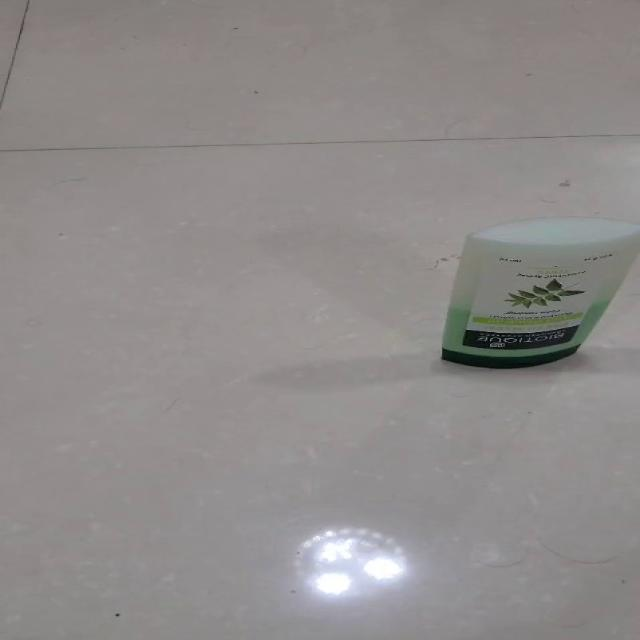plastic: (439, 215, 637, 369)
